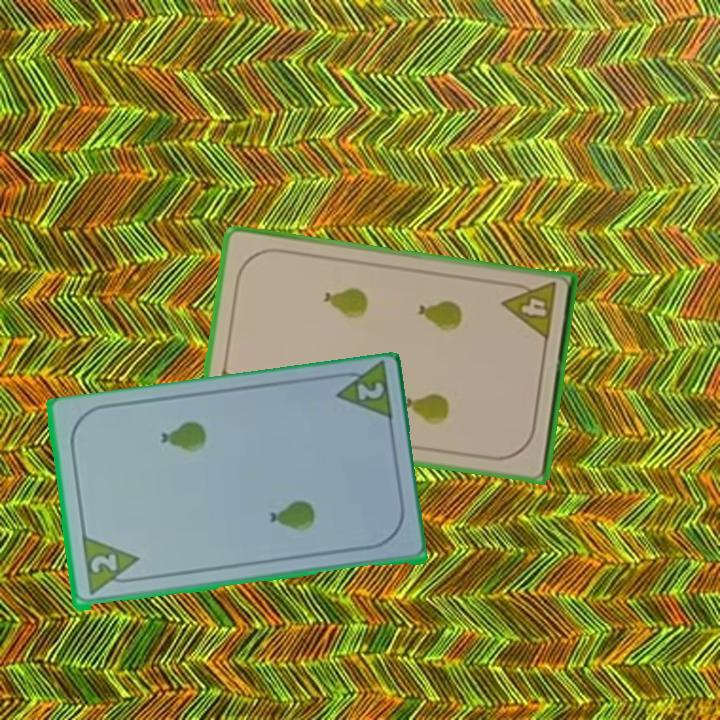2p: (328, 361, 395, 427), (86, 551, 120, 577)
4p: (499, 279, 559, 344)
